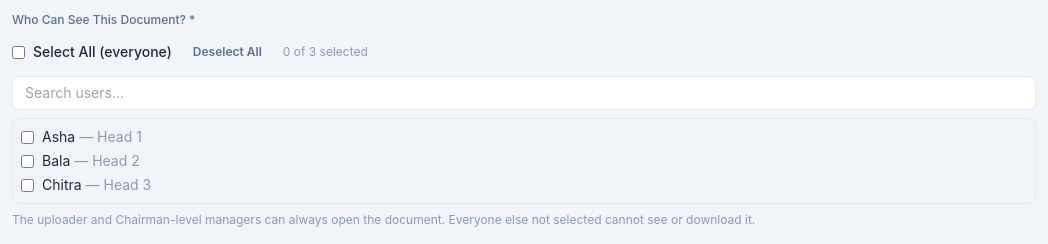
Document audience picker › Deselect All clears the selection and the search narrows the list
expect the checkbox labelled "Asha — Head 1" is shown: met, box [21, 130, 34, 144]
Click the checkbox labelled "Select All (everyone)" at [18, 52], box [12, 46, 25, 58]
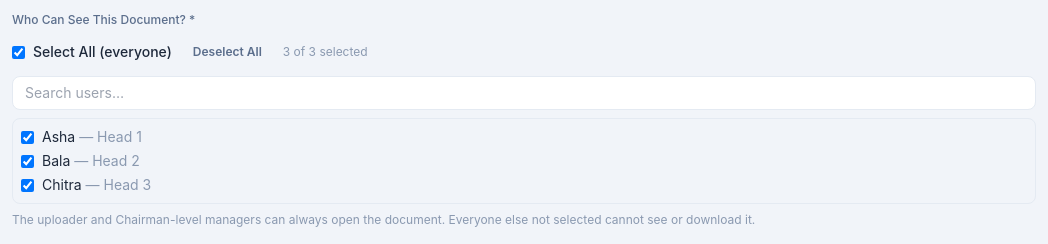
Click the button "Deselect All" at [227, 52], box [180, 36, 275, 68]
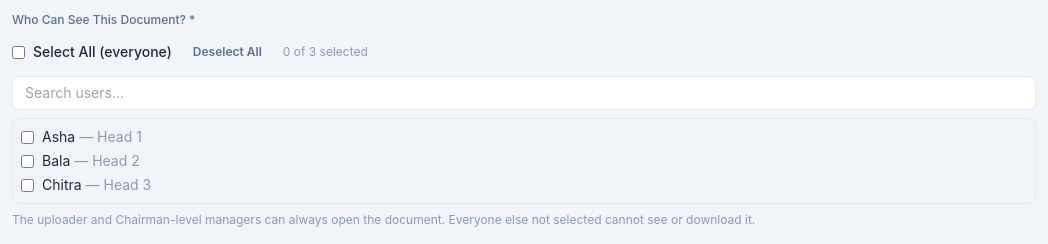
Type "bal" into the search field labelled "Search users" at [524, 93], box [12, 76, 1036, 110]
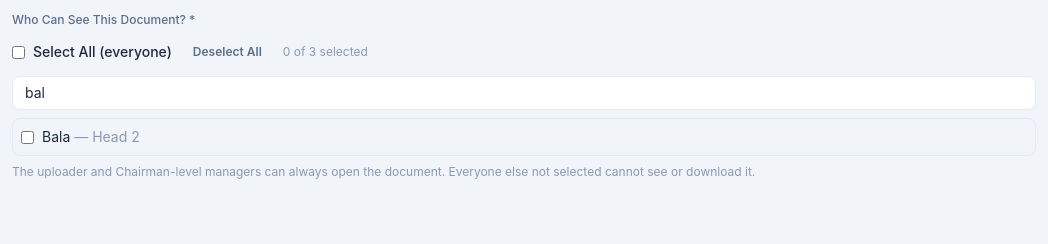
expect the checkbox labelled "Bala — Head 2" is shown: met, box [21, 130, 34, 144]
expect the field labelled "Asha" is gone: met
